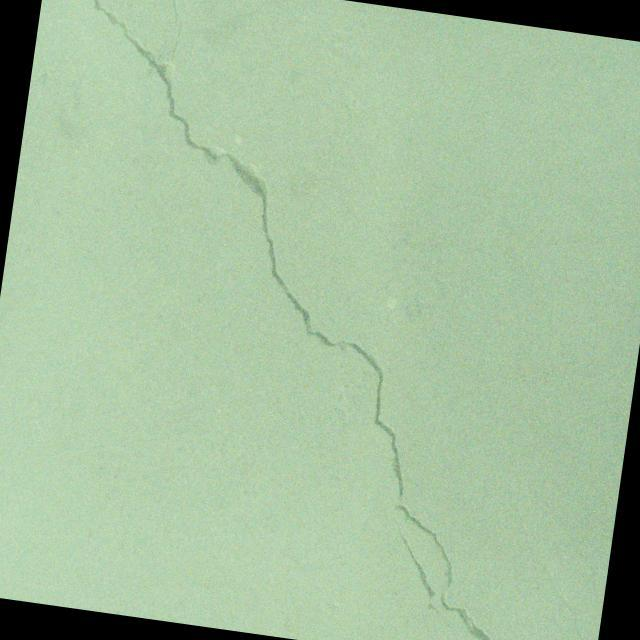crack: (9, 0, 637, 640), (496, 505, 615, 640), (152, 0, 188, 60)
